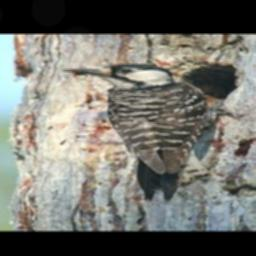Woodpecker: (59, 62, 248, 205)
